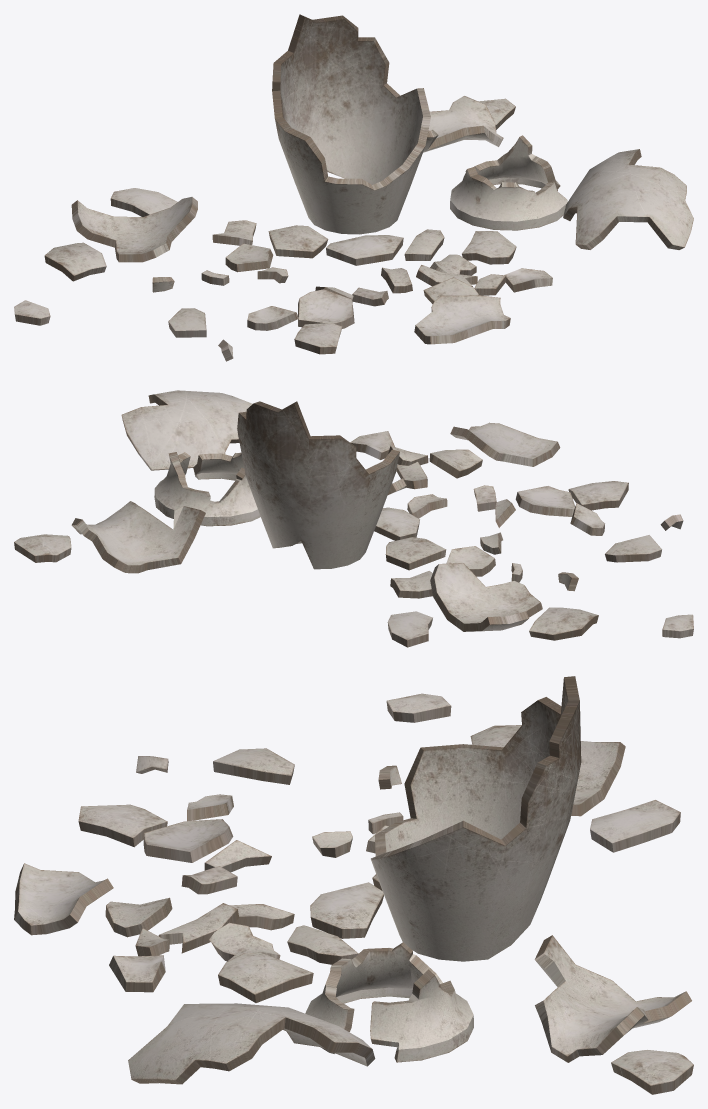
The model's file is 静物_瓶罐_broken_vase__lowpoly.glb.
3 renders of one model, top to bottom at view 1: azimuth 30°, elevation 25°; view 2: azimuth 150°, elevation 25°; view 3: azimuth 270°, elevation 25°, orthographic. The views are drawn at different scales.
Visible parts, largest first — view 1: Cylinder_cell057; view 2: Cylinder_cell057; view 3: Cylinder_cell057.
Boxes of the visible parts, <box> form: Cylinder_cell057: <box>14,14,693,361</box>; Cylinder_cell057: <box>14,390,693,647</box>; Cylinder_cell057: <box>14,676,693,1094</box>.
Size of the model in its own units: 1.02 by 0.3 by 0.7053.
1 material, 1 textured.
